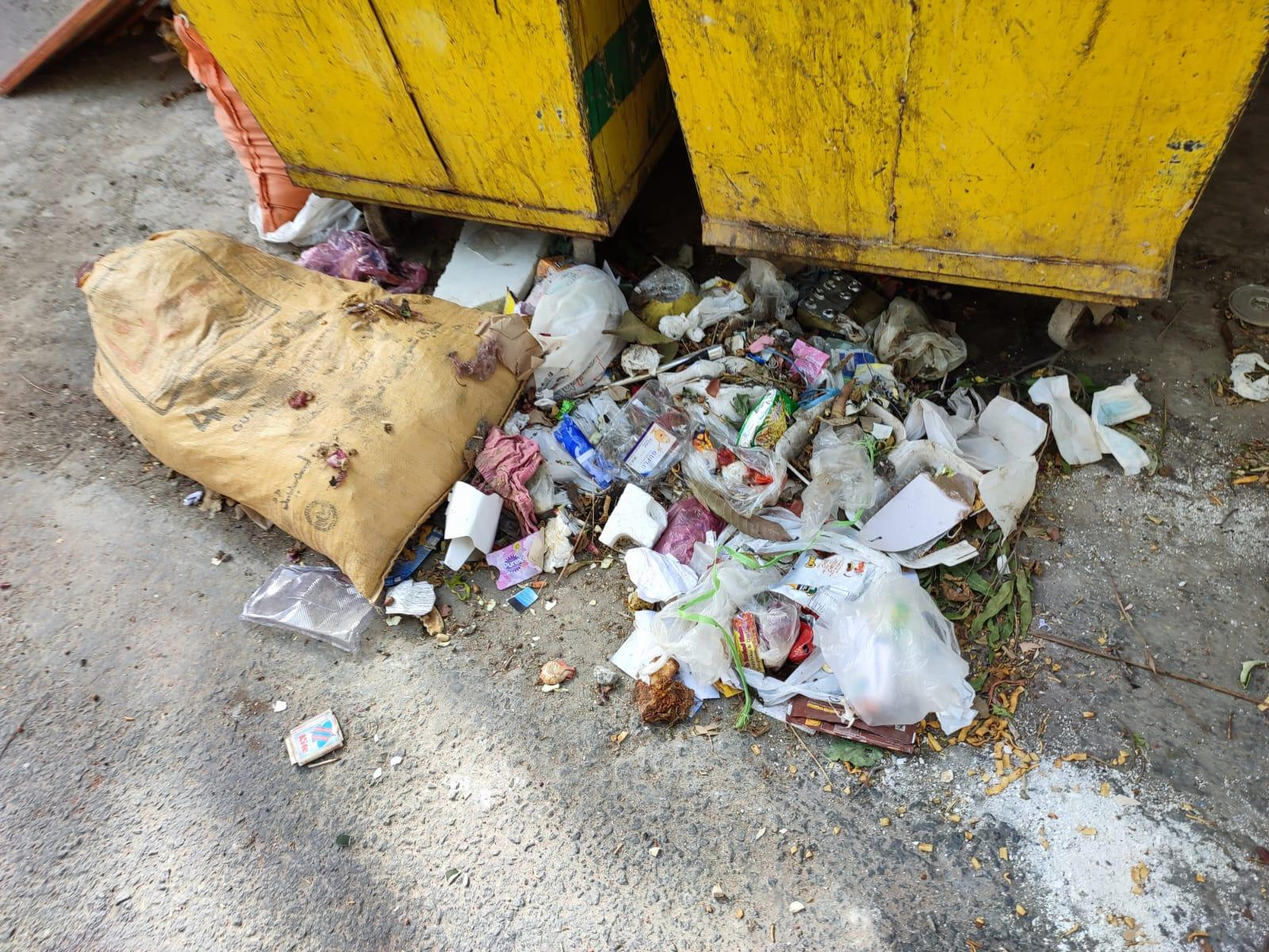garbage: (67, 173, 1148, 796)
